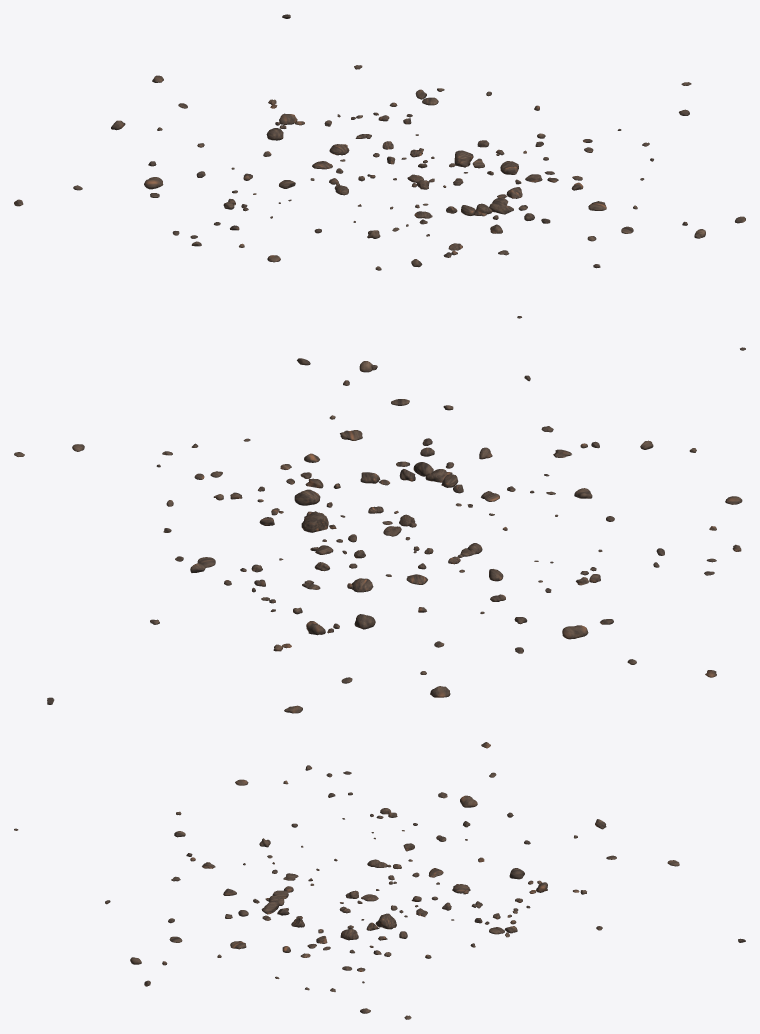
Rendered from rock_field_1.dae.
The picture shows the model from 3 angles, top to bottom: view 1: azimuth 30°, elevation 25°; view 2: azimuth 150°, elevation 25°; view 3: azimuth 270°, elevation 25°; orthographic projection. The views are drawn at different scales.
Parts seen in each view (by area): view 1: rock_field_1; view 2: rock_field_1; view 3: rock_field_1.
Part boxes in pixels (x1,y1,x2,y2): rock_field_1: (14, 14, 745, 318); rock_field_1: (14, 347, 745, 713); rock_field_1: (14, 742, 745, 1019).
Size of the model in its own units: 23.98 by 26.96 by 1.51.
1 material, 1 textured.
